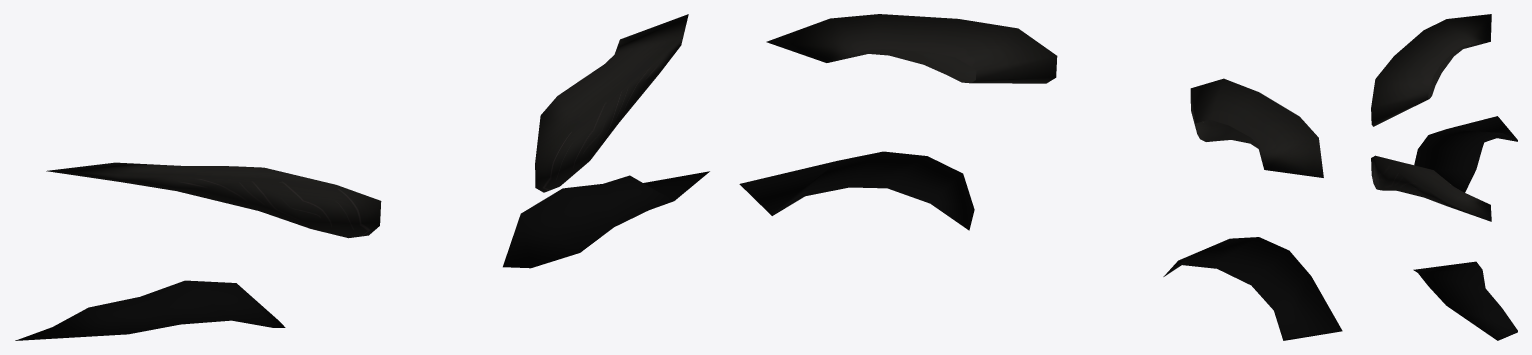
File: brous10.fbx
3 renders of one model, left to right at view 1: azimuth 30°, elevation 25°; view 2: azimuth 150°, elevation 25°; view 3: azimuth 270°, elevation 25°, orthographic. The views are drawn at different scales.
Parts seen in each view (by area): view 1: brous10; view 2: brous10; view 3: brous10.
Part boxes in pixels (x1=…): brous10: x1=15, y1=14, x2=709, y2=340; brous10: x1=739, y1=14, x2=1342, y2=340; brous10: x1=1371, y1=14, x2=1517, y2=340.
Bounding box in the file's own units: 11.14 × 3.03 × 3.07.
